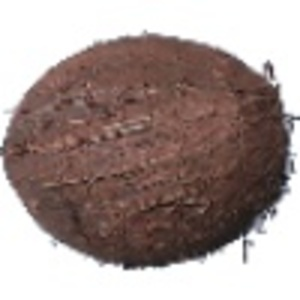coco: (1, 35, 300, 269)
